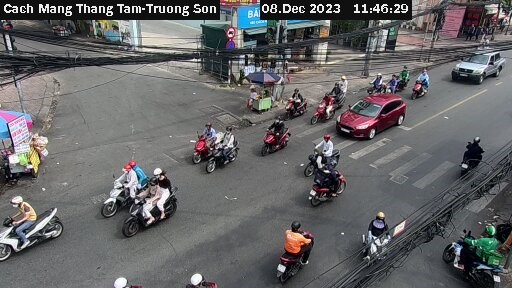car: (334, 95, 408, 143), (453, 48, 504, 84)
motorbike: (1, 192, 70, 266), (444, 218, 508, 285), (117, 183, 190, 231), (267, 222, 321, 279), (350, 219, 397, 266), (90, 165, 146, 202), (304, 168, 351, 207), (203, 137, 250, 167), (454, 135, 488, 175), (300, 138, 342, 169), (257, 119, 296, 150), (276, 85, 308, 114), (409, 67, 436, 101), (188, 129, 222, 154), (310, 90, 334, 122)
